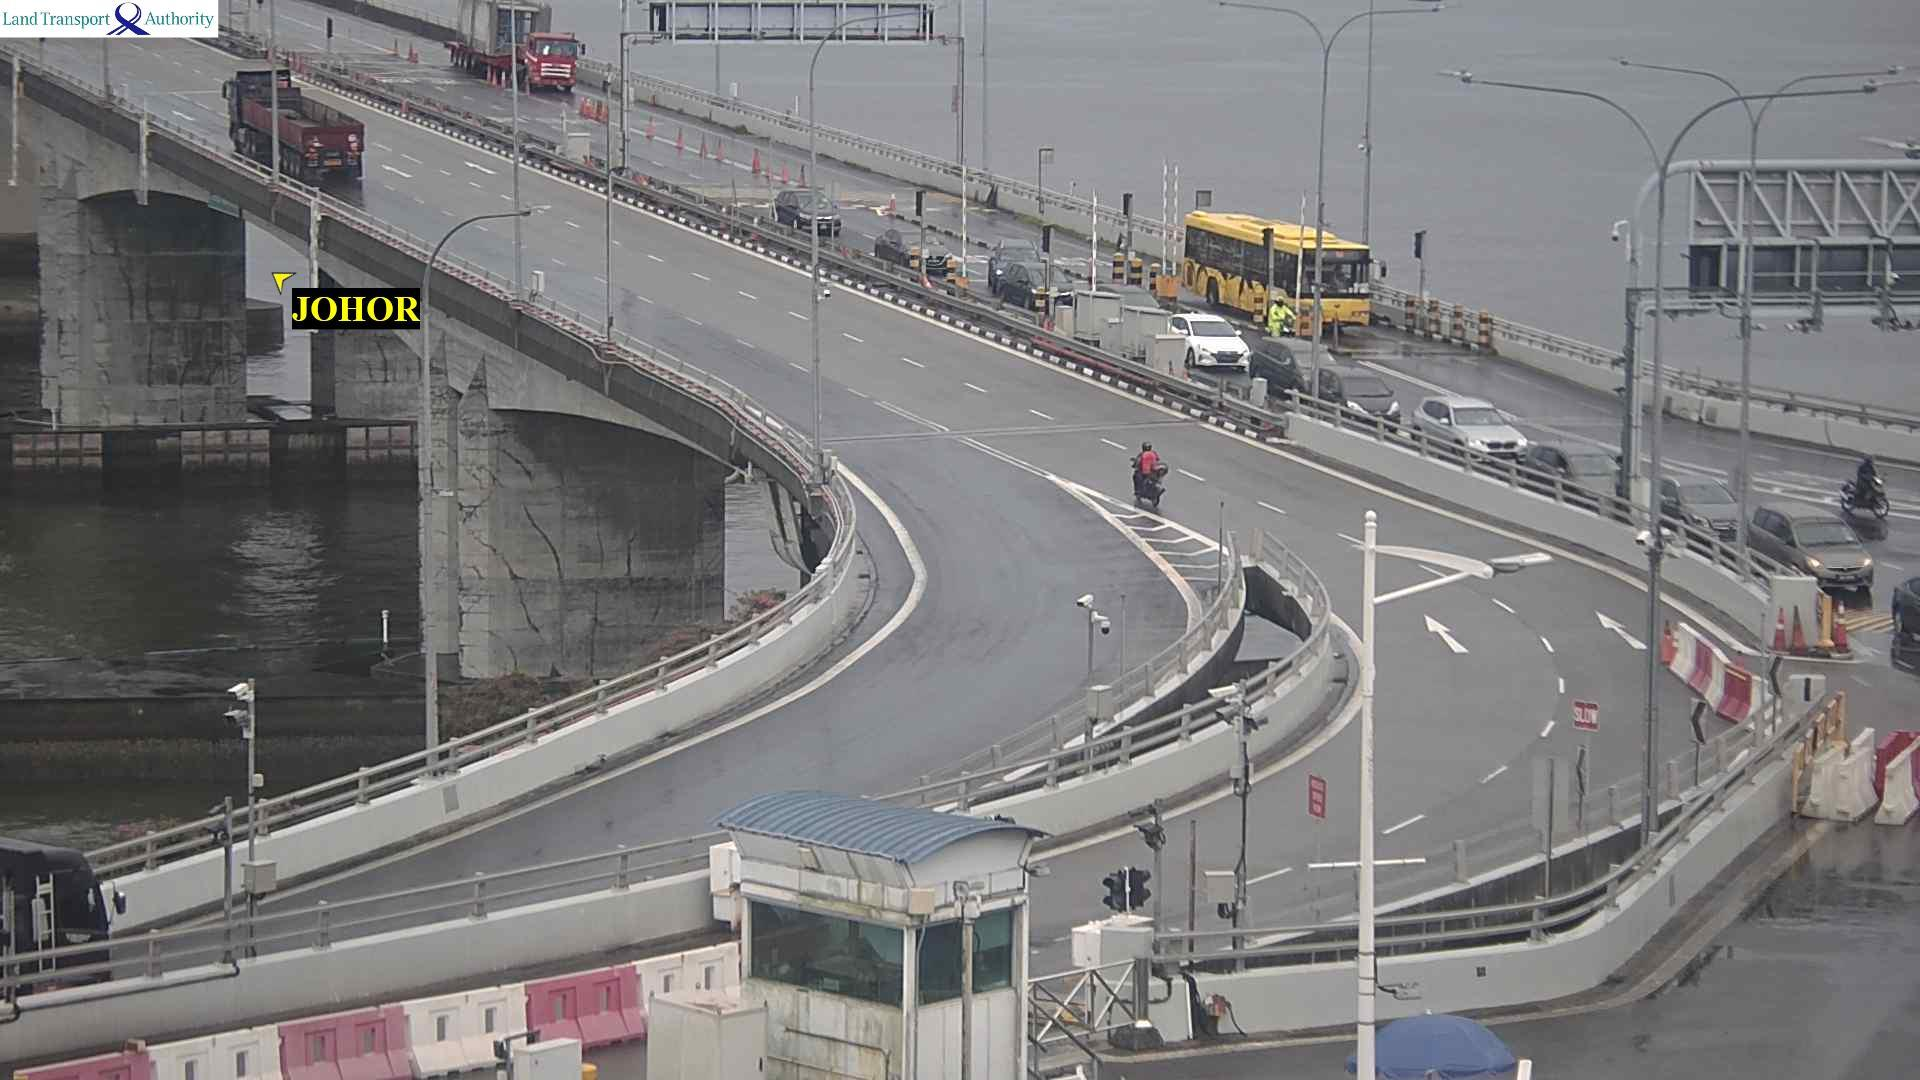vehicle-secondlink-johor: (0, 839, 119, 1007), (1168, 305, 1232, 361), (1004, 252, 1062, 305), (1134, 444, 1170, 497)
vehicle-secondlink-singapore: (1191, 207, 1382, 331), (0, 853, 144, 1010), (335, 0, 578, 92), (1750, 510, 1879, 584), (1418, 401, 1532, 452), (1168, 314, 1247, 356), (877, 231, 956, 269), (774, 189, 839, 231), (1846, 458, 1894, 513), (910, 232, 973, 272), (0, 229, 38, 276), (1873, 294, 1920, 331)
